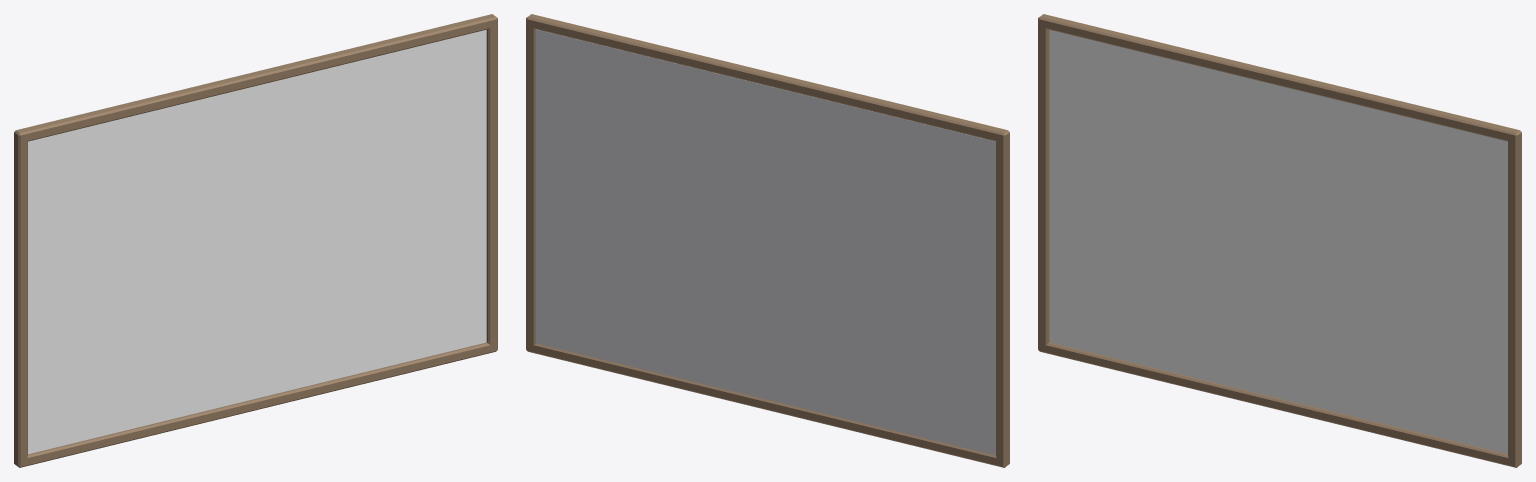
File: quadro_cortica.obj
3 views of the same model, side by side, from view 1: azimuth 30°, elevation 25°; view 2: azimuth 150°, elevation 25°; view 3: azimuth 330°, elevation 25° (orthographic).
Parts seen in each view (by area): view 1: quadro_cortica; view 2: quadro_cortica; view 3: quadro_cortica.
Boxes of the visible parts, x1,y1,x2,y2 form: quadro_cortica: (14,14,497,467); quadro_cortica: (526,14,1009,467); quadro_cortica: (1038,14,1521,467).
Bounding box in the file's own units: 1.2 × 0.8 × 0.025.
